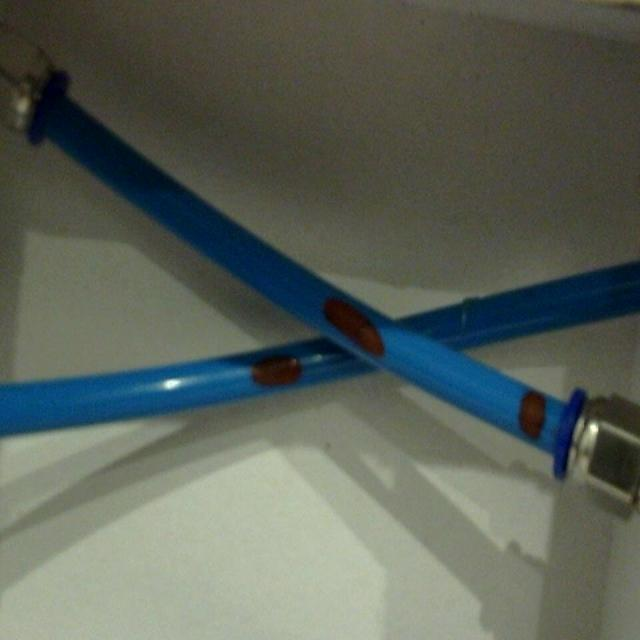hose_damage: (314, 286, 399, 365), (517, 381, 549, 448), (252, 352, 303, 390)
